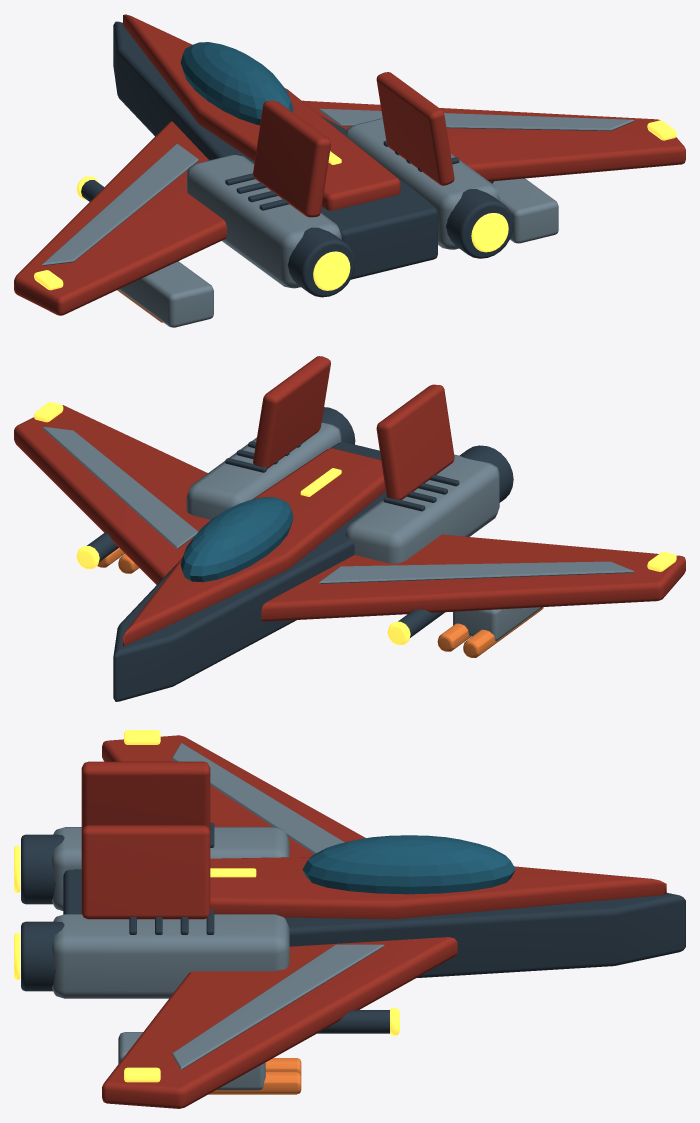
Rendered from Gunship.fbx.
The picture shows the model from 3 angles, top to bottom: view 1: azimuth 30°, elevation 25°; view 2: azimuth 150°, elevation 25°; view 3: azimuth 270°, elevation 25°; orthographic projection. The views are drawn at different scales.
Visible parts, largest first — view 1: Swept main wing, Tapered titanium fuselage, Swept main wing.001, Upper ceramic spine, Engine nacelle, Vertical stabilizer, Smoked canopy, Vertical stabilizer.001, Engine nacelle.001, Wing accent, Missile rack, Wing accent.001 (+5 smaller); view 2: Swept main wing, Swept main wing.001, Tapered titanium fuselage, Upper ceramic spine, Engine nacelle, Vertical stabilizer, Smoked canopy, Vertical stabilizer.001, Engine nacelle.001, Wing accent, Wing accent.001, Missile rack (+5 smaller); view 3: Swept main wing.001, Tapered titanium fuselage, Engine nacelle.001, Upper ceramic spine, Vertical stabilizer.001, Smoked canopy, Vertical stabilizer, Swept main wing, Wing accent.001, Engine nacelle, Wing accent, Exhaust shroud (+5 smaller).
Part boxes in pixels (x1=…): Swept main wing: x1=14, y1=121, x2=226, y2=315; Tapered titanium fuselage: x1=113, y1=21, x2=437, y2=279; Swept main wing.001: x1=302, y1=100, x2=685, y2=181; Upper ceramic spine: x1=123, y1=14, x2=400, y2=210; Engine nacelle: x1=186, y1=155, x2=341, y2=288; Vertical stabilizer: x1=253, y1=100, x2=330, y2=217; Smoked canopy: x1=180, y1=42, x2=293, y2=125; Vertical stabilizer.001: x1=376, y1=72, x2=454, y2=185; Engine nacelle.001: x1=345, y1=118, x2=499, y2=249; Wing accent: x1=42, y1=143, x2=198, y2=265; Missile rack: x1=118, y1=261, x2=213, y2=327; Wing accent.001: x1=319, y1=108, x2=634, y2=130; Swept main wing: x1=261, y1=534, x2=685, y2=621; Swept main wing.001: x1=14, y1=405, x2=210, y2=584; Tapered titanium fuselage: x1=113, y1=442, x2=386, y2=701; Upper ceramic spine: x1=123, y1=448, x2=385, y2=646; Engine nacelle: x1=345, y1=454, x2=499, y2=563; Vertical stabilizer: x1=376, y1=384, x2=454, y2=499; Smoked canopy: x1=180, y1=497, x2=293, y2=582; Vertical stabilizer.001: x1=253, y1=356, x2=330, y2=468; Engine nacelle.001: x1=186, y1=422, x2=341, y2=519; Wing accent: x1=319, y1=561, x2=633, y2=583; Wing accent.001: x1=42, y1=427, x2=198, y2=548; Missile rack: x1=453, y1=607, x2=542, y2=640; Swept main wing.001: x1=102, y1=937, x2=457, y2=1108; Tapered titanium fuselage: x1=63, y1=869, x2=685, y2=977; Engine nacelle.001: x1=52, y1=914, x2=289, y2=998; Upper ceramic spine: x1=210, y1=857, x2=666, y2=919; Vertical stabilizer.001: x1=81, y1=825, x2=210, y2=919; Smoked canopy: x1=302, y1=835, x2=515, y2=894; Vertical stabilizer: x1=81, y1=761, x2=210, y2=830; Swept main wing: x1=102, y1=735, x2=365, y2=857; Wing accent.001: x1=172, y1=944, x2=384, y2=1069; Engine nacelle: x1=52, y1=827, x2=289, y2=910; Wing accent: x1=172, y1=743, x2=344, y2=853; Exhaust shroud: x1=21, y1=834, x2=64, y2=904.
Size of the model in its own units: 459 by 118 by 365.
